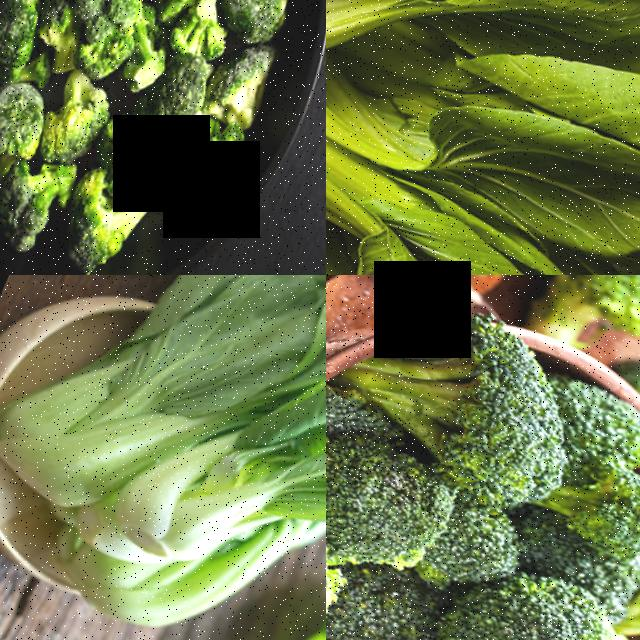-: (126, 30, 226, 174), (42, 173, 143, 275), (206, 33, 292, 141), (59, 0, 153, 91), (170, 123, 254, 218), (0, 153, 71, 259), (0, 0, 59, 126), (45, 79, 120, 169), (65, 0, 153, 65), (0, 67, 51, 174), (220, 0, 306, 38)
bok choy: (326, 33, 628, 275), (123, 316, 326, 640), (47, 275, 290, 517), (326, 0, 510, 115)
broccoli: (354, 296, 592, 493), (326, 430, 472, 575), (442, 545, 640, 640), (508, 275, 640, 367), (545, 442, 640, 552), (326, 501, 389, 640)
